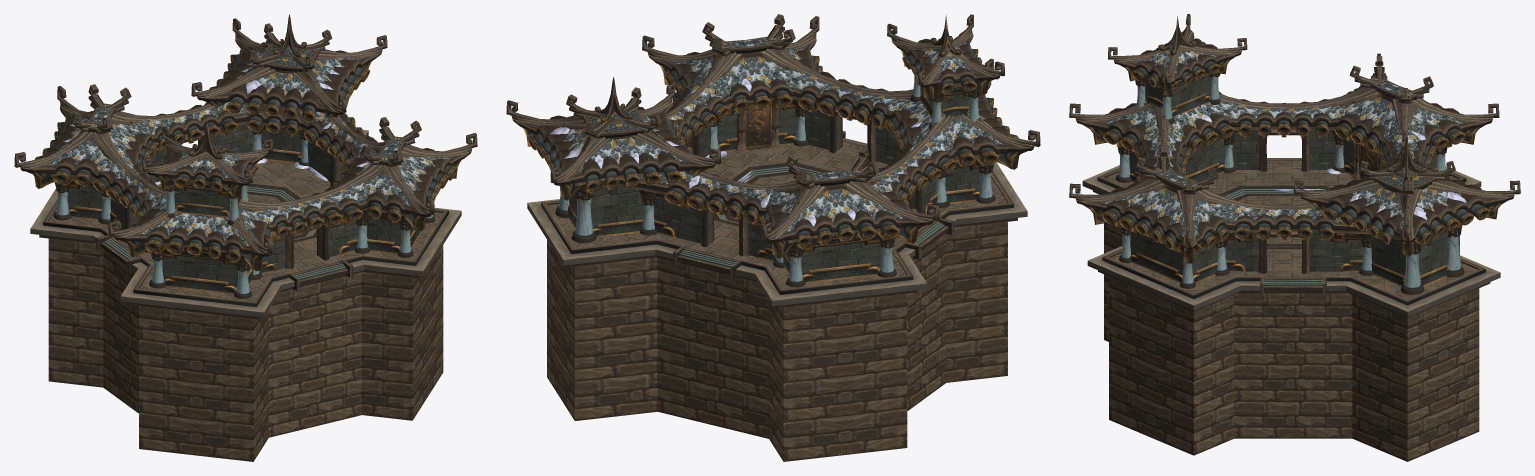
The picture shows the model from 3 angles, left to right: view 1: azimuth 30°, elevation 25°; view 2: azimuth 150°, elevation 25°; view 3: azimuth 270°, elevation 25°; orthographic projection. The views are drawn at different scales.
Parts seen in each view (by area): view 1: pa_northerntemple_courtyard_set0; view 2: pa_northerntemple_courtyard_set0; view 3: pa_northerntemple_courtyard_set0.
Part boxes in pixels (left/top/right/bottom): pa_northerntemple_courtyard_set0: left=14, top=14, right=477, bottom=461; pa_northerntemple_courtyard_set0: left=506, top=14, right=1040, bottom=461; pa_northerntemple_courtyard_set0: left=1069, top=14, right=1520, bottom=461.
Size of the model in its own units: 108 by 84.74 by 108.
Materials: 17 (17 with a texture image).
